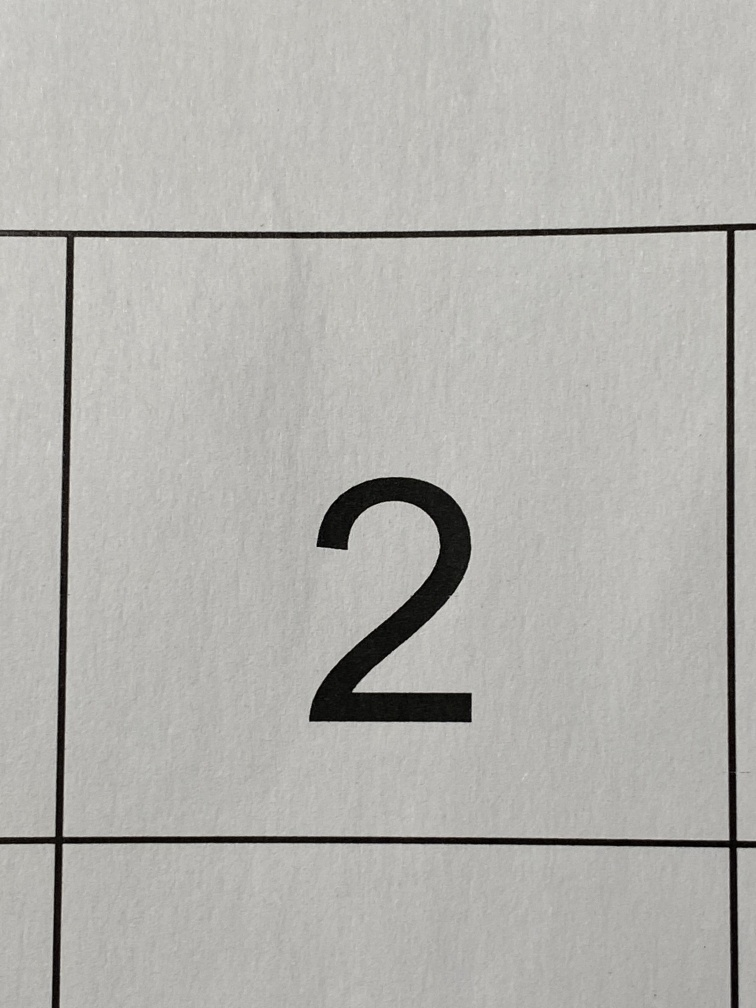two: (283, 433, 512, 800)
